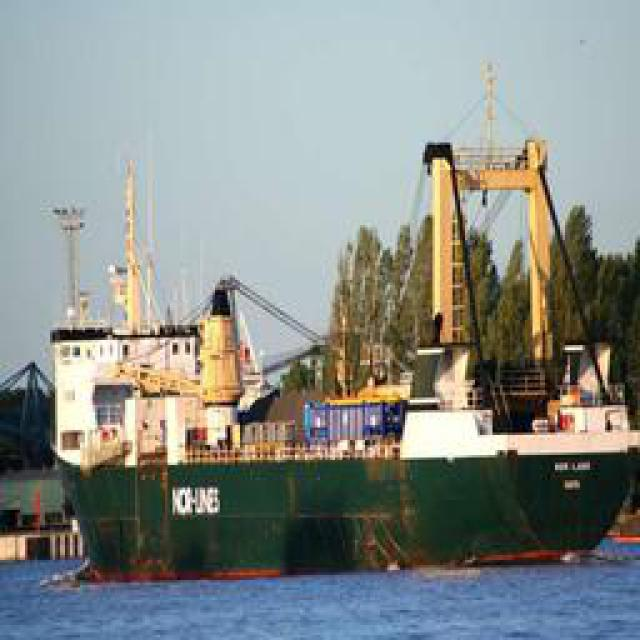Ship: (50, 100, 638, 585)
